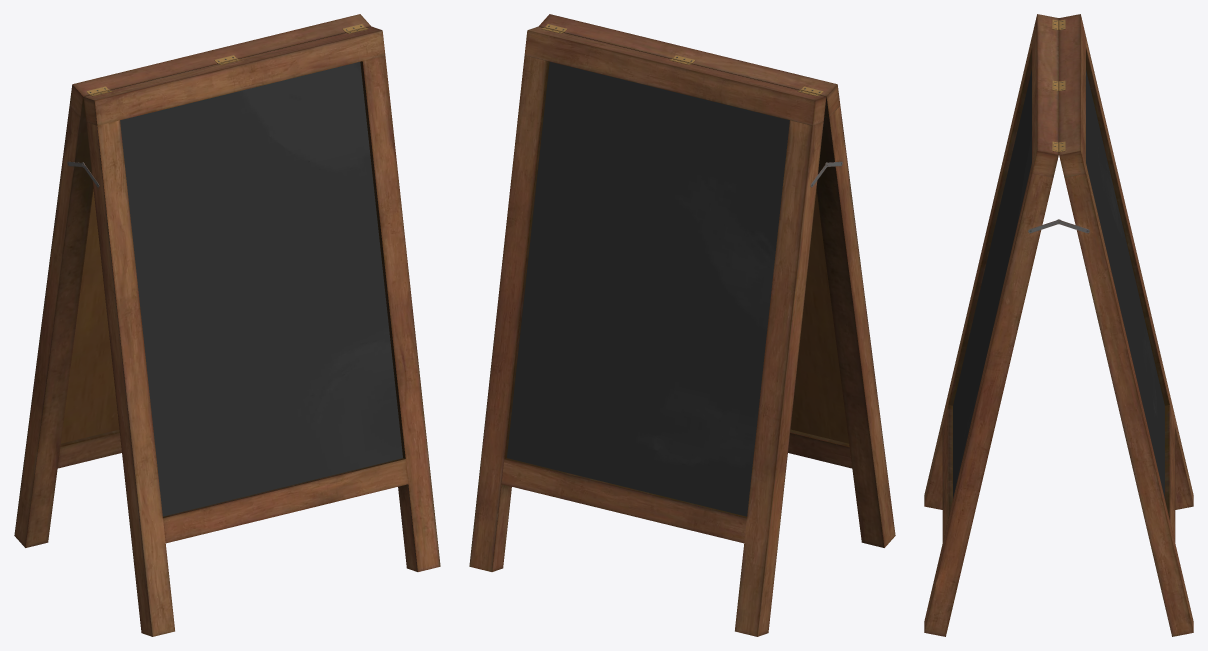
The model's file is standing_chalkboard_01.glb.
3 views of the same model, side by side, from view 1: azimuth 30°, elevation 25°; view 2: azimuth 150°, elevation 25°; view 3: azimuth 270°, elevation 25° (orthographic). The views are drawn at different scales.
Parts seen in each view (by area): view 1: standing_chalkboard_01; view 2: standing_chalkboard_01; view 3: standing_chalkboard_01.
Boxes of the visible parts, x1,y1,x2,y2 form: standing_chalkboard_01: (14, 14, 440, 636); standing_chalkboard_01: (469, 14, 895, 636); standing_chalkboard_01: (924, 14, 1193, 636).
Bounding box in the file's own units: 0.9195 × 1.51 × 0.7587.
2 materials, 2 textured.
